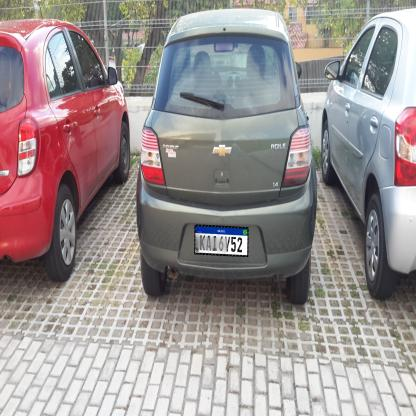PlacaM: (194, 224, 249, 257)
